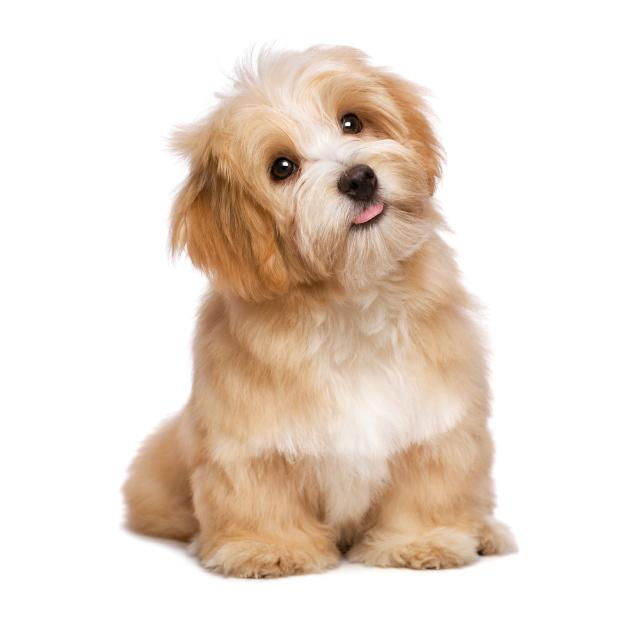dog: (152, 25, 468, 312)
